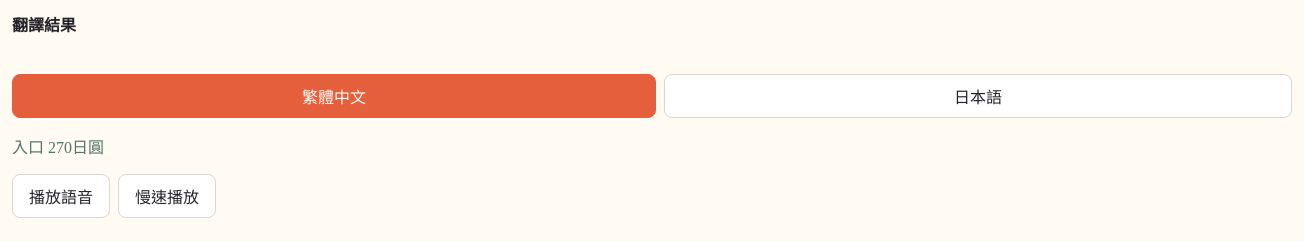
TranslationPanel（Phase 8 Speech Reuse Integration, FR-011/FR-012/FR-021） › 語音播放失敗時保留翻譯結果並提供重新嘗試播放（不重新翻譯／不重新 OCR）
Click the button "播放語音".
click(61, 196)  # box x1=12 y1=174 x2=110 y2=218
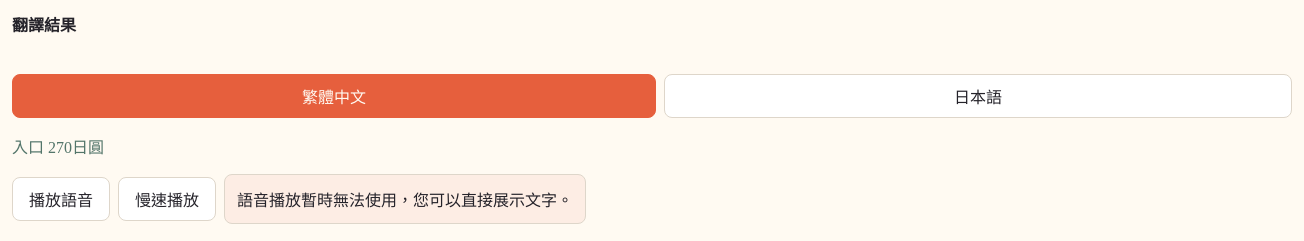
expect the text "入口 270日圓" is shown: met, box x1=12 y1=138 x2=104 y2=156
expect the text "語音播放暫時無法使用，您可以直接展示文字。" is shown: met, box x1=224 y1=174 x2=586 y2=224
